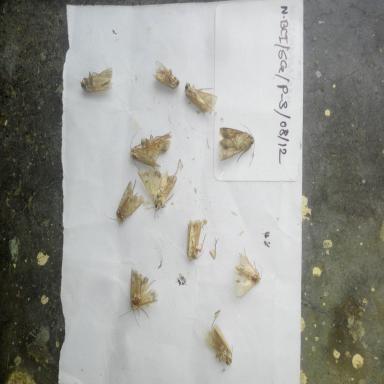abw: (136, 158, 187, 224), (116, 265, 162, 330), (215, 119, 260, 172), (101, 178, 147, 226), (183, 70, 222, 122), (229, 246, 263, 301), (203, 324, 238, 373), (74, 64, 120, 98), (183, 211, 211, 266), (148, 58, 183, 94), (126, 140, 162, 170), (140, 125, 177, 153)
